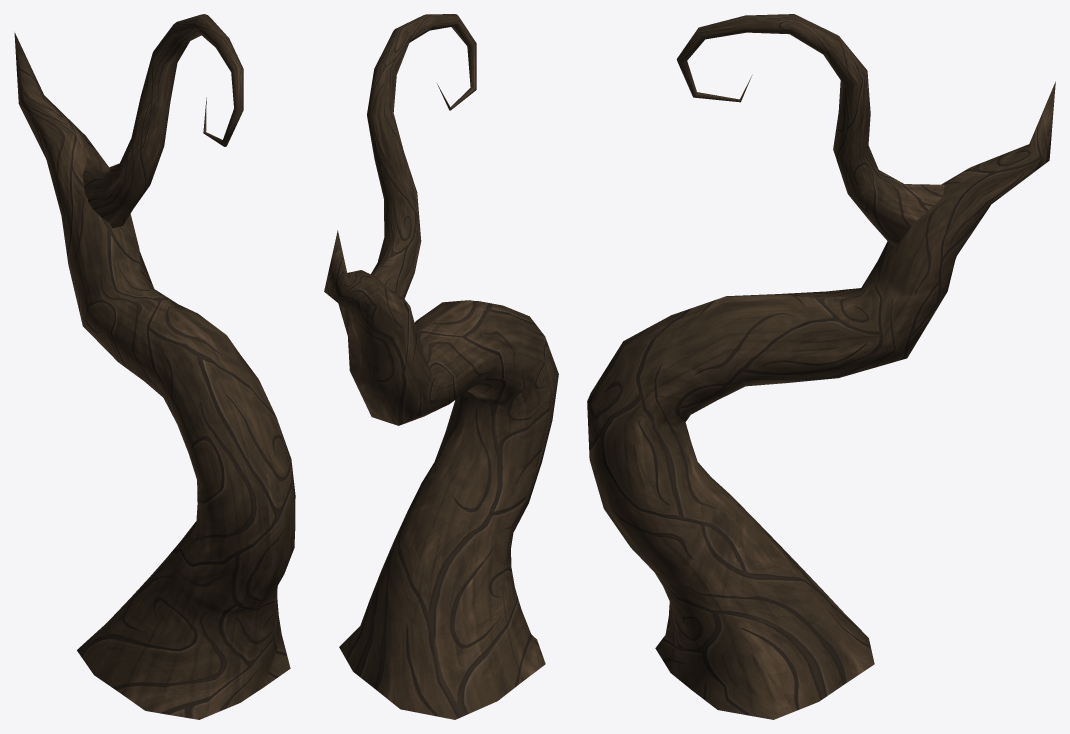
Rendered from rootGreen5.fbx.
3 renders of one model, left to right at view 1: azimuth 30°, elevation 25°; view 2: azimuth 150°, elevation 25°; view 3: azimuth 270°, elevation 25°, orthographic. The views are drawn at different scales.
Parts seen in each view (by area): view 1: rootGreen5; view 2: rootGreen5; view 3: rootGreen5.
Boxes of the visible parts, x1,y1,x2,y2 form: rootGreen5: [14, 14, 295, 719]; rootGreen5: [324, 14, 558, 719]; rootGreen5: [587, 14, 1055, 719].
Bounding box in the file's own units: 397 × 1398 × 888.
